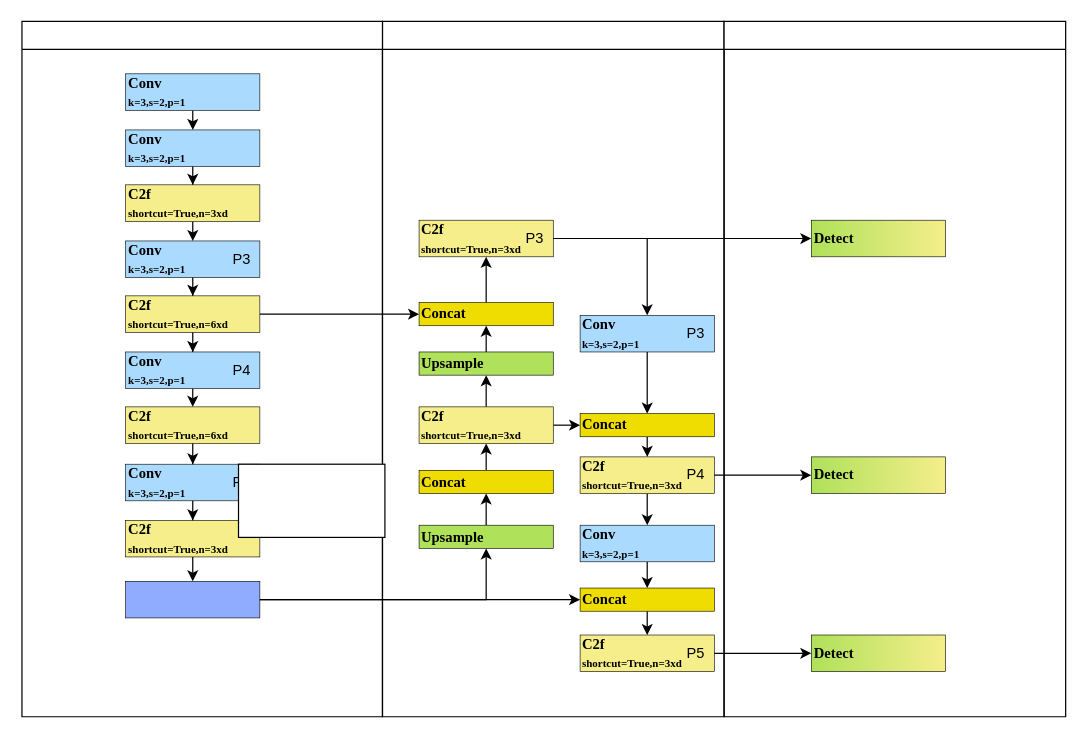
This 1087x738 diagram has some shape labels left out. Here are the shapes that lost their labels. From the top down, the box of each, then its label:
(21, 20, 382, 717): Backbone
(381, 20, 724, 717): Neck
(723, 20, 1066, 717): Head
(125, 580, 260, 618): SPPF
